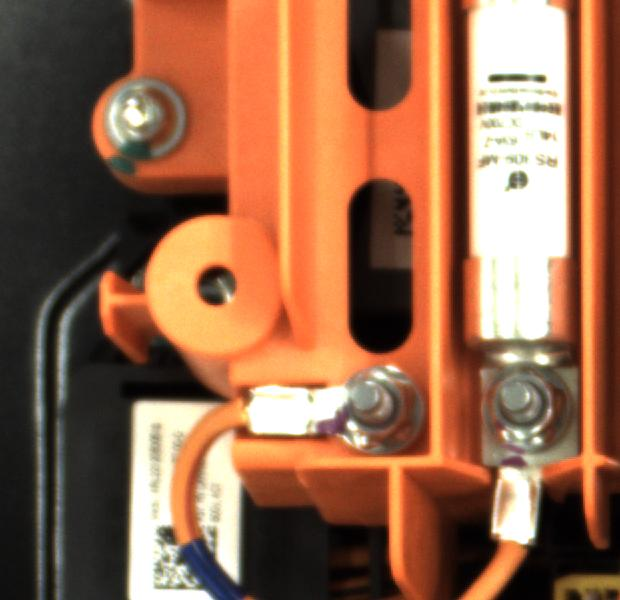screw_m: (96, 73, 200, 167)
screw_s: (481, 360, 581, 456), (332, 366, 432, 449)
